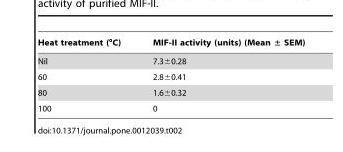table: (37, 36, 304, 112)
table column: (136, 36, 304, 112), (37, 36, 136, 112)
table column header: (37, 36, 304, 51)
table row: (37, 51, 304, 68), (37, 68, 304, 84), (37, 84, 304, 100), (37, 36, 304, 51), (37, 100, 304, 112)
